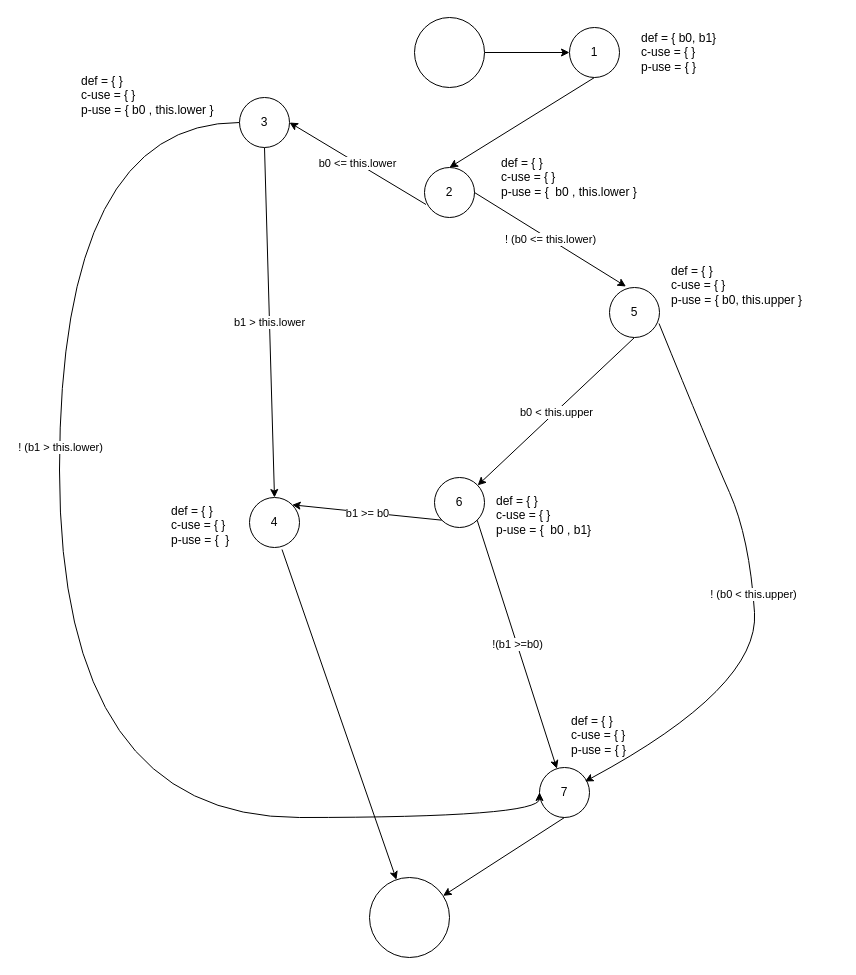
Image size: 856x975. Some labels were removed from this diagram. The shapes that lost their labels are listed below. From the top down, each one's centre as x and y in pixels, then its label:
At point (449, 52): "START".
At point (409, 917): "END".
